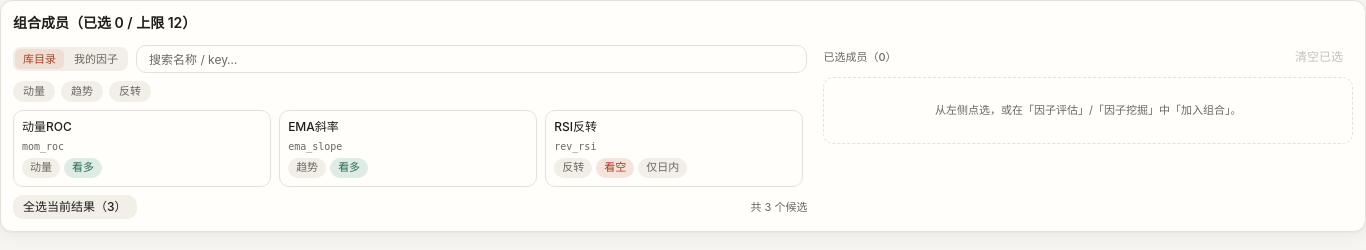
Test case: MemberPalette › filters candidates by search and shows the empty hint when nothing matches
The image size is (1366, 250).
Expected: the button "动量ROC mom_roc 动量 看多" is shown, [13, 110, 271, 187]
Type "RSI" into the field with placeholder "搜索名称 / key…" at (472, 59), box [136, 45, 807, 73]
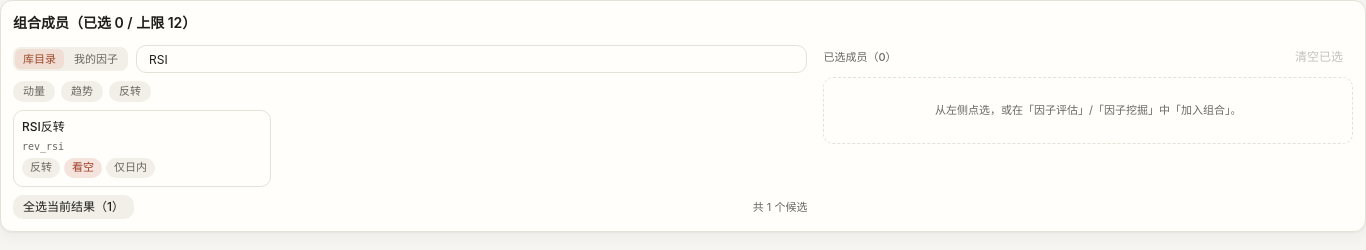
Expected: the button "RSI反转 rev_rsi 反转 看空 仅日内" is shown, [13, 110, 271, 187]
Expected: the button "动量ROC" is gone
Replace the text in the field with placeholder "搜索名称 / key…" with "zzz" at (472, 59), box [136, 45, 807, 73]
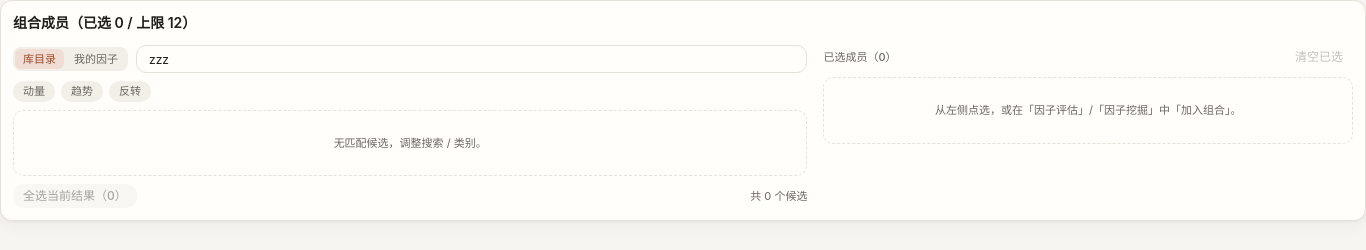
Expected: the text "无匹配候选，调整搜索 / 类别。" is shown, [13, 110, 807, 176]
